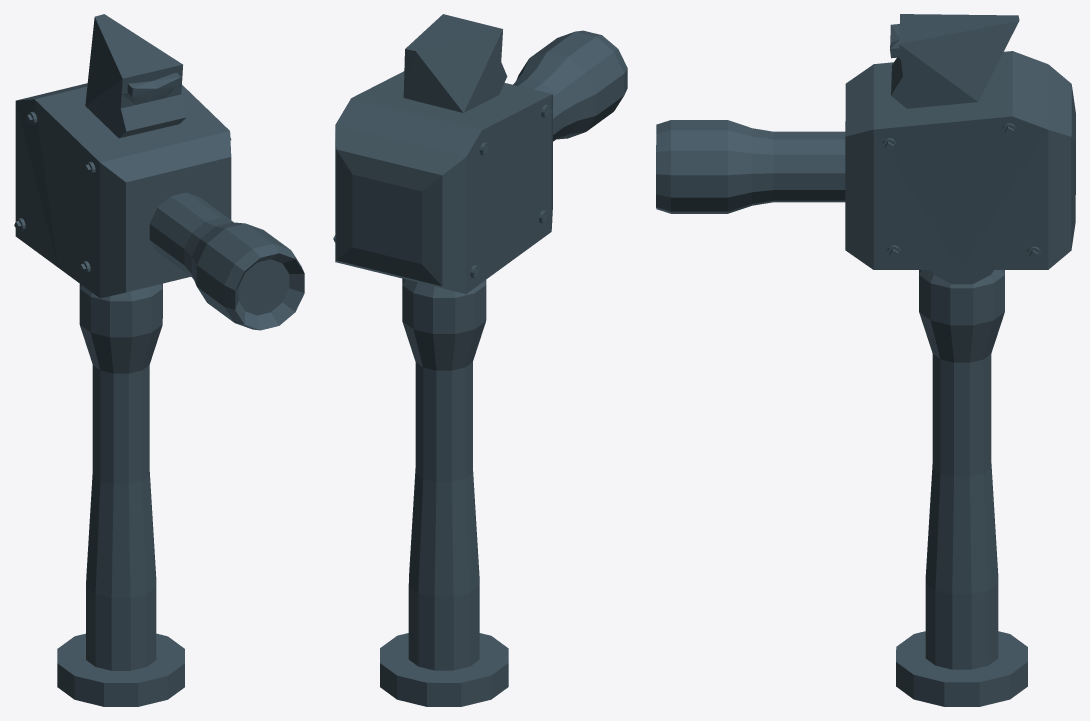
File: turret2.glb
The picture shows the model from 3 angles, left to right: view 1: azimuth 30°, elevation 25°; view 2: azimuth 150°, elevation 25°; view 3: azimuth 270°, elevation 25°; orthographic projection. The views are drawn at different scales.
Visible parts, largest first — view 1: group2145190503; view 2: group2145190503; view 3: group2145190503.
Part boxes in pixels (x1=…): group2145190503: x1=14, y1=14, x2=304, y2=706; group2145190503: x1=333, y1=14, x2=627, y2=706; group2145190503: x1=656, y1=14, x2=1075, y2=706.
Bounding box in the file's own units: 0.5062 × 2.15 × 1.23.
